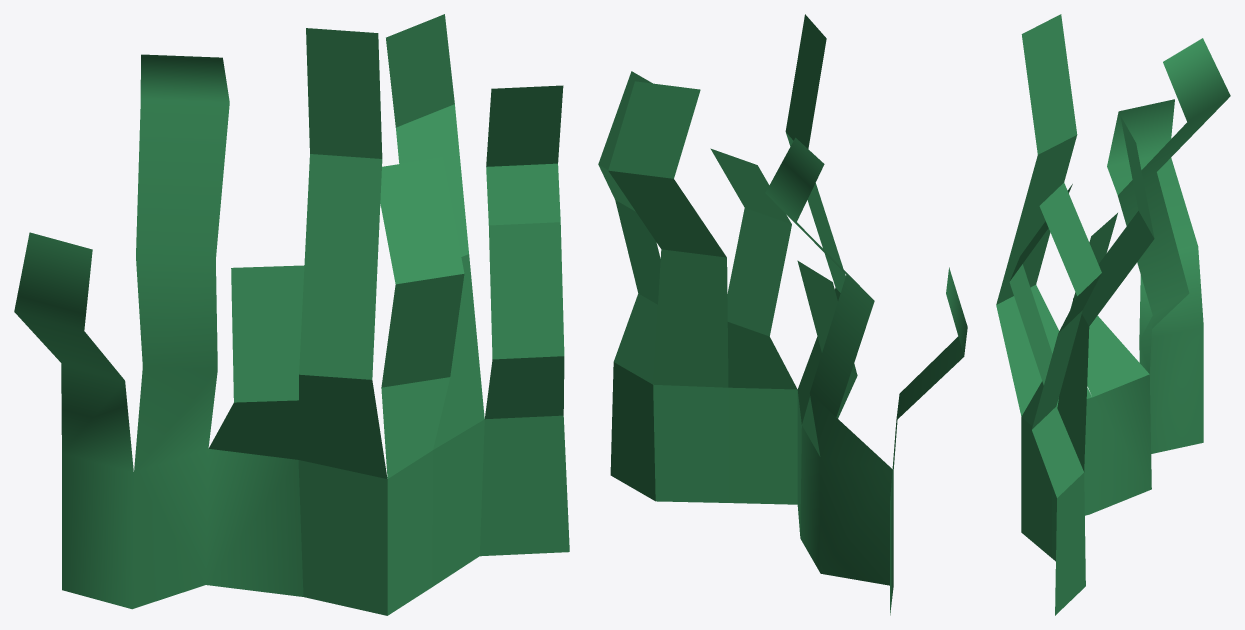
Rendered from grass_4.fbx.
The picture shows the model from 3 angles, left to right: view 1: azimuth 30°, elevation 25°; view 2: azimuth 150°, elevation 25°; view 3: azimuth 270°, elevation 25°; orthographic projection. The views are drawn at different scales.
Visible parts, largest first — view 1: grass_4; view 2: grass_4; view 3: grass_4.
Boxes of the visible parts, bbox=[...] form: grass_4: bbox=[14, 14, 569, 615]; grass_4: bbox=[598, 14, 967, 615]; grass_4: bbox=[996, 14, 1230, 615].
Size of the model in its own units: 125 by 143 by 61.29.
